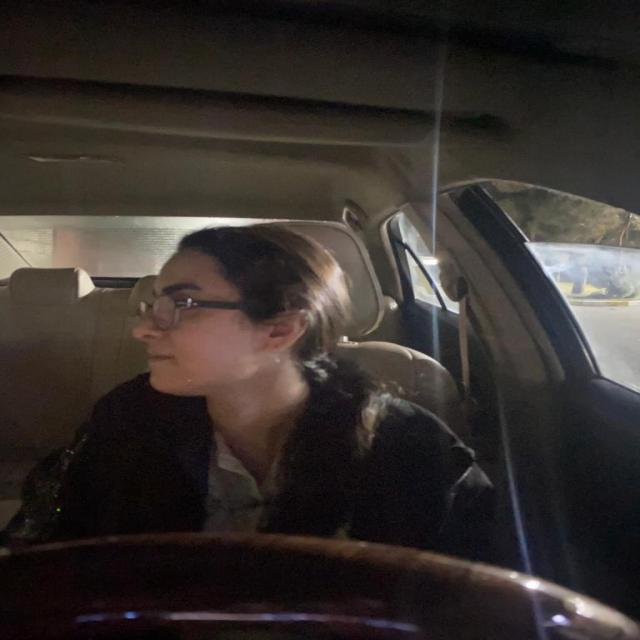LeftRight: (126, 226, 366, 406)
